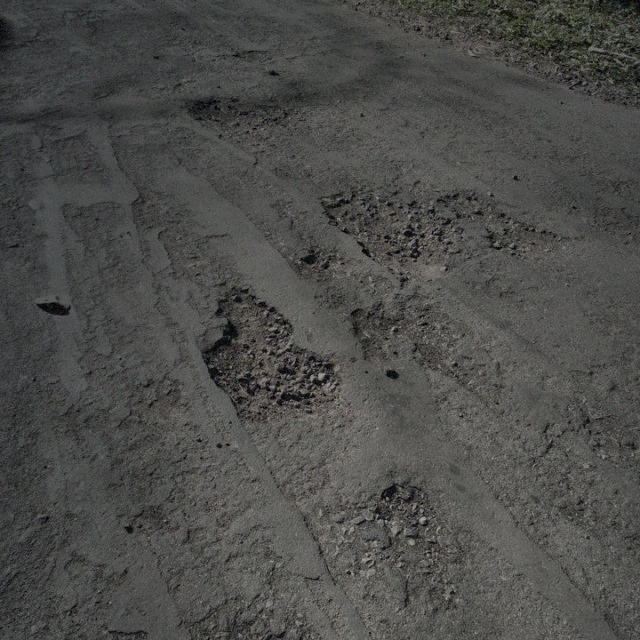pothole: (196, 284, 346, 426), (317, 178, 463, 276), (372, 480, 460, 606), (438, 186, 572, 258), (348, 306, 468, 375), (183, 95, 269, 147), (296, 247, 357, 279)
